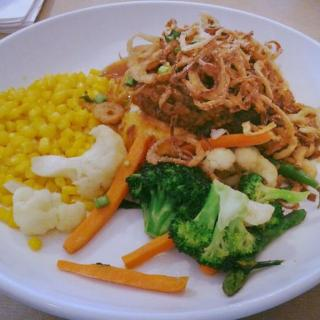Carrot: (64, 134, 152, 255), (58, 251, 202, 300), (182, 128, 270, 154), (122, 233, 174, 269)
